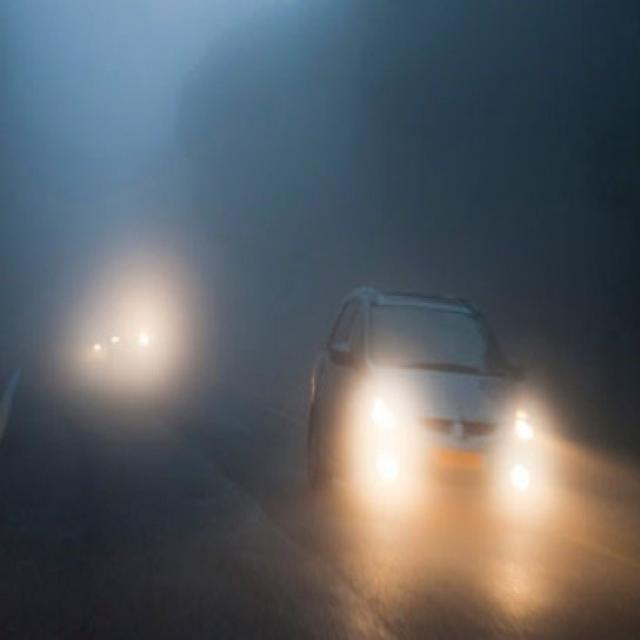Car: (299, 272, 562, 575)
